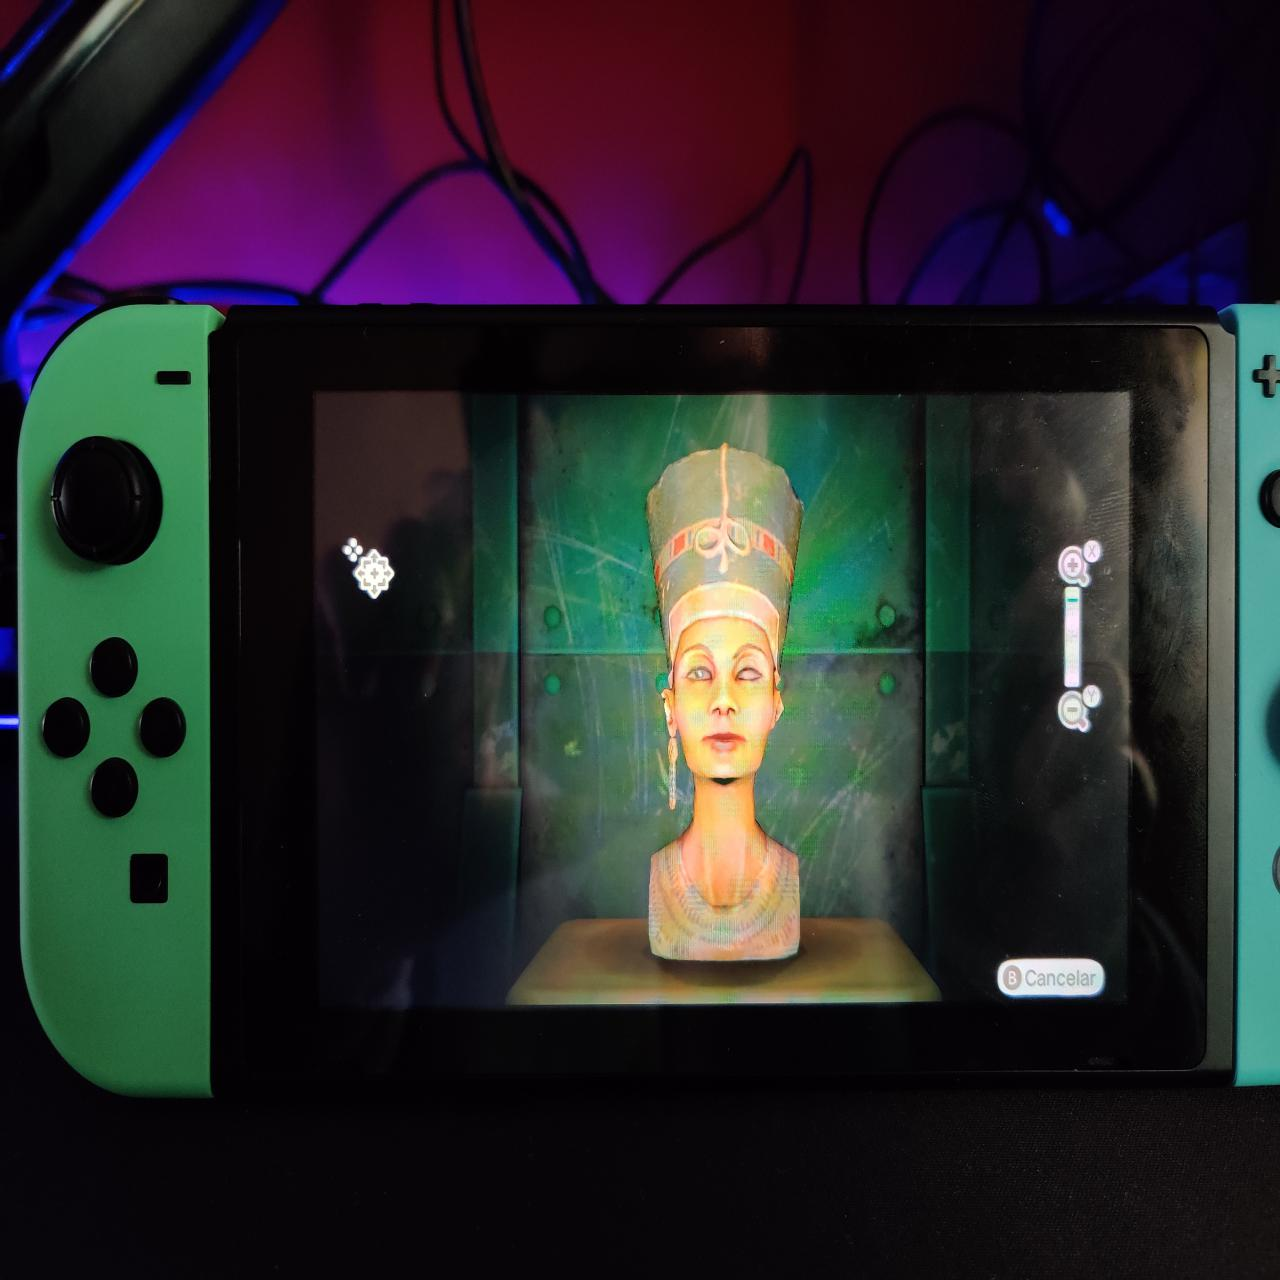NefertitiFake: (636, 448, 815, 980)
